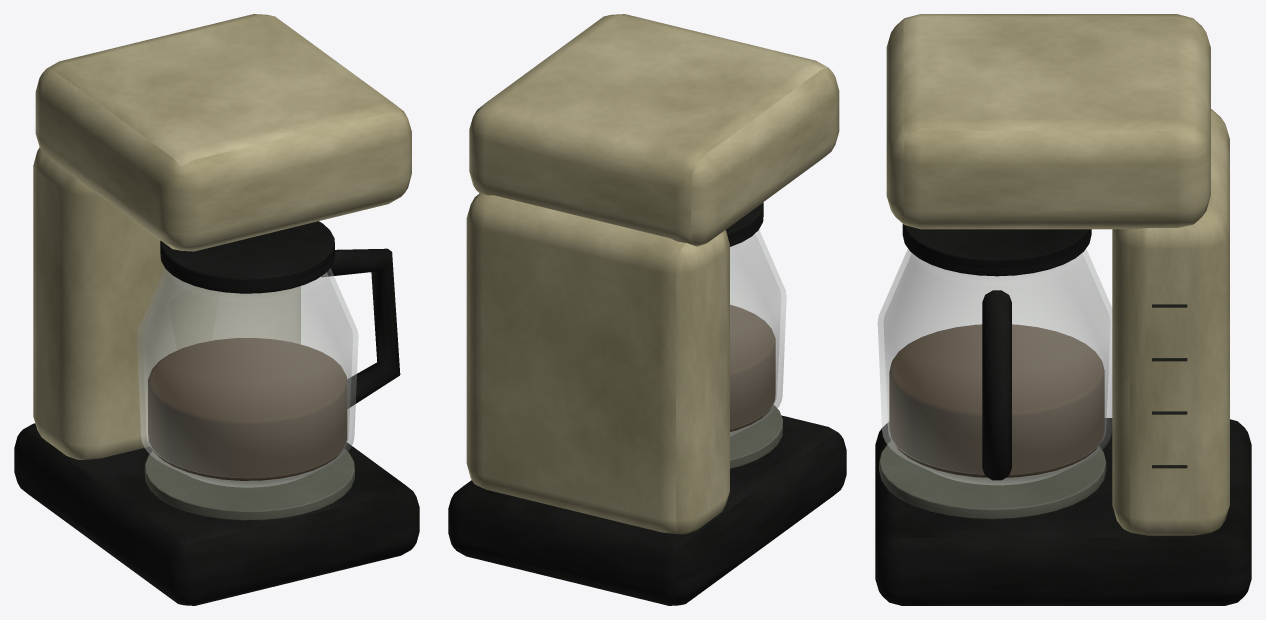
Rendered from coffee_pot.glb.
3 renders of one model, left to right at view 1: azimuth 30°, elevation 25°; view 2: azimuth 150°, elevation 25°; view 3: azimuth 270°, elevation 25°, orthographic. The views are drawn at different scales.
Visible parts, largest first — view 1: Filter housing, Hollow glass carafe, Water tank tower, Coffee maker hotplate base, Coffee liquid, Hotplate, Carafe lid, Carafe handle; view 2: Water tank tower, Filter housing, Coffee maker hotplate base, Hollow glass carafe, Coffee liquid, Hotplate, Carafe lid; view 3: Filter housing, Hollow glass carafe, Water tank tower, Coffee maker hotplate base, Coffee liquid, Hotplate, Carafe lid, Carafe handle.
Boxes of the visible parts, bbox=[...] form: Filter housing: bbox=[35, 14, 411, 251]; Hollow glass carafe: bbox=[137, 268, 358, 487]; Water tank tower: bbox=[33, 147, 300, 459]; Coffee maker hotplate base: bbox=[14, 423, 419, 605]; Coffee liquid: bbox=[148, 338, 347, 480]; Hotplate: bbox=[144, 448, 354, 520]; Carafe lid: bbox=[160, 221, 334, 293]; Carafe handle: bbox=[321, 248, 400, 408]; Water tank tower: bbox=[466, 193, 729, 534]; Filter housing: bbox=[469, 14, 839, 246]; Coffee maker hotplate base: bbox=[448, 415, 846, 605]; Hollow glass carafe: bbox=[730, 230, 786, 435]; Coffee liquid: bbox=[730, 305, 775, 431]; Hotplate: bbox=[730, 404, 782, 468]; Carafe lid: bbox=[726, 202, 763, 246]; Filter housing: bbox=[886, 14, 1210, 229]; Hollow glass carafe: bbox=[878, 249, 1111, 484]; Water tank tower: bbox=[1112, 109, 1229, 535]; Coffee maker hotplate base: bbox=[875, 418, 1251, 605]; Coffee liquid: bbox=[889, 324, 1104, 477]; Hotplate: bbox=[879, 441, 1106, 519]; Carafe lid: bbox=[902, 224, 1091, 276]; Carafe handle: bbox=[982, 290, 1011, 480].
Size of the model in its own units: 0.2319 by 0.36 by 0.255.
Materials: 7 (3 with a texture image).
